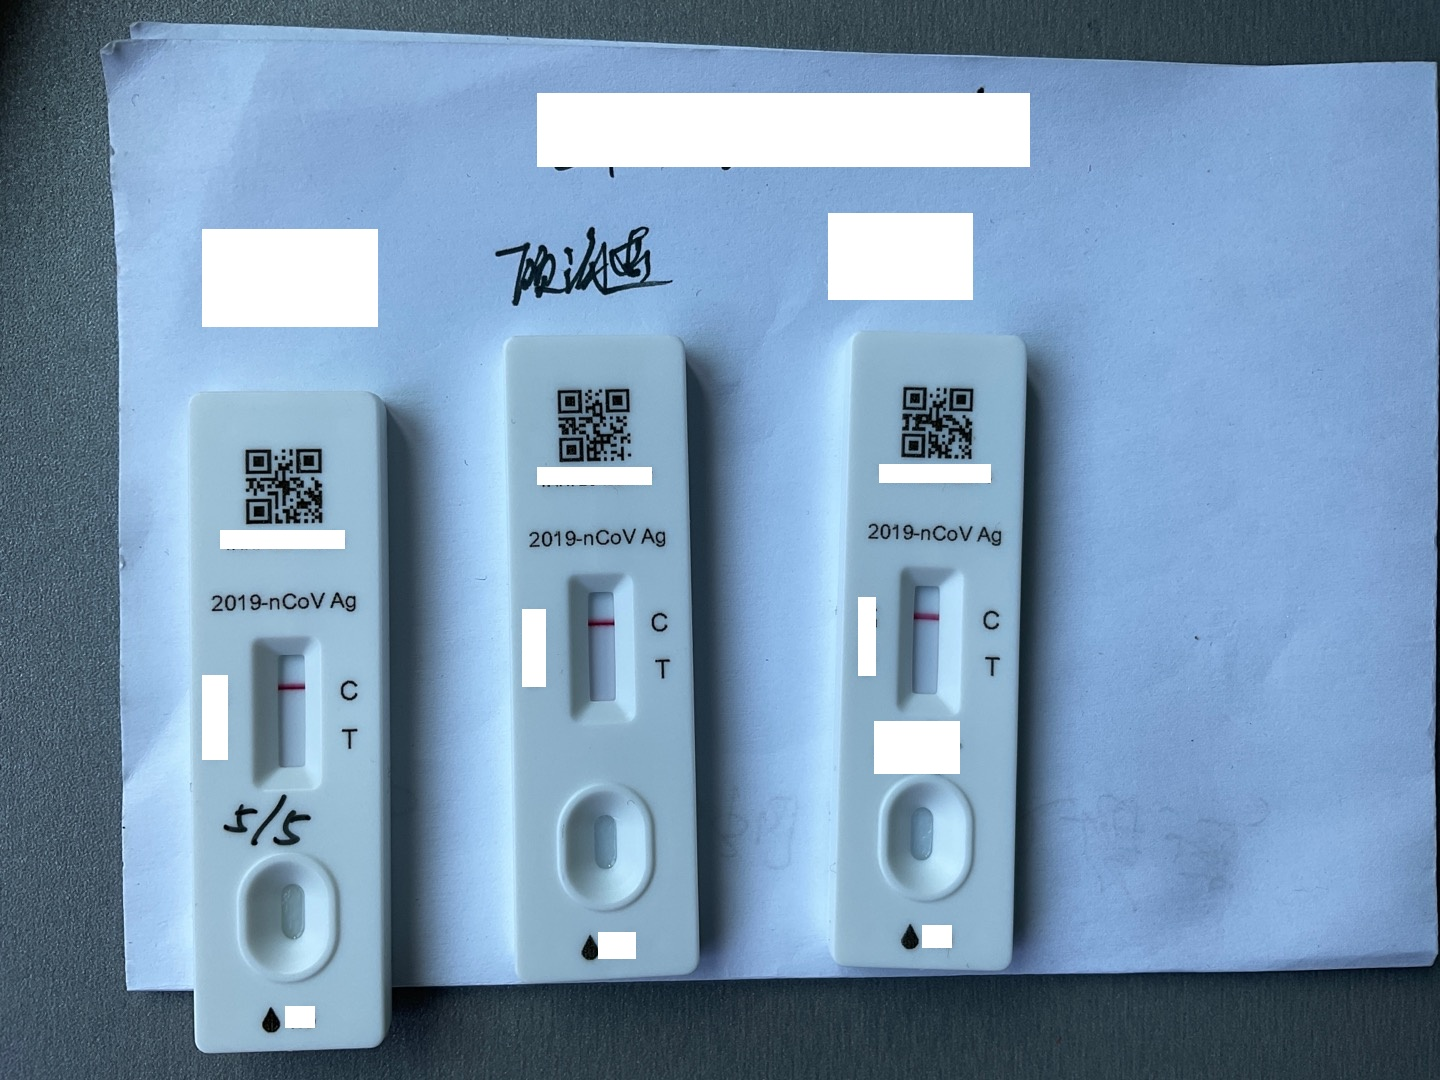negative: (565, 569, 633, 725), (249, 638, 317, 786), (895, 565, 962, 704)
